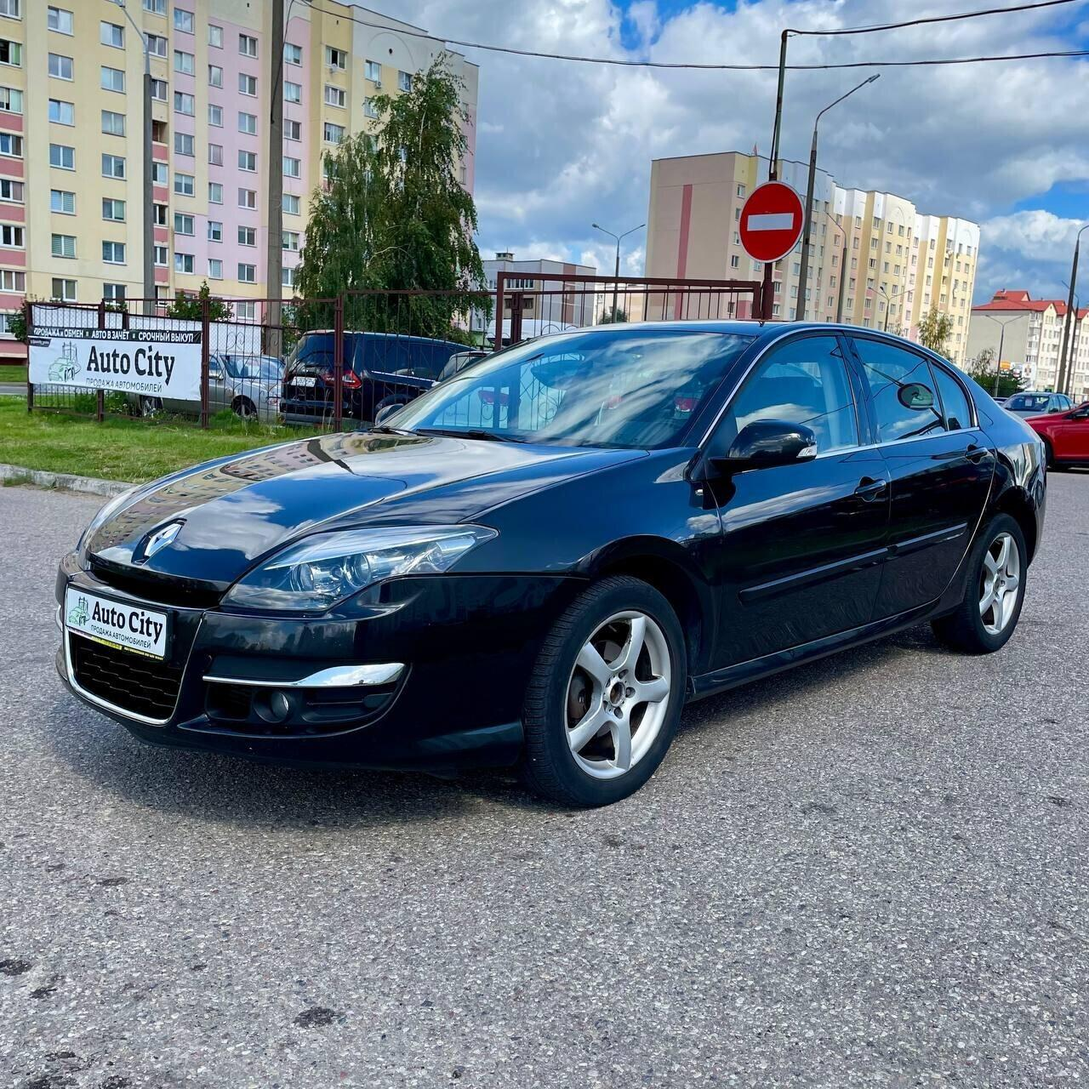Laguna_2010-2015: (50, 312, 1059, 820)
